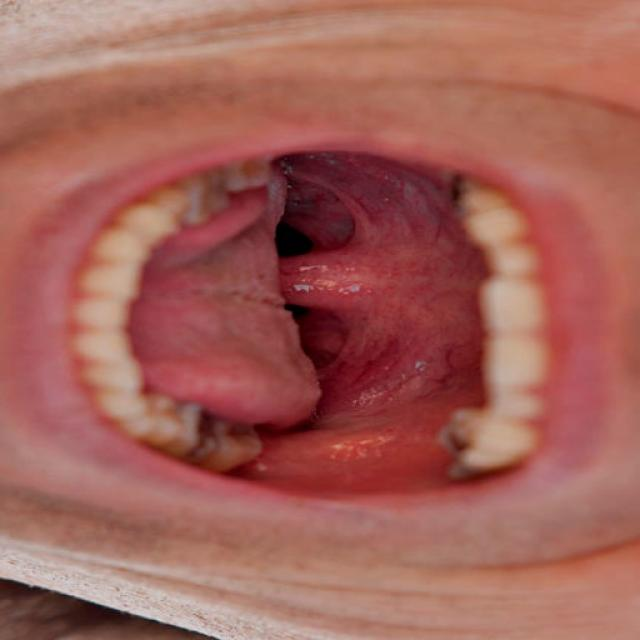processing_area: (136, 160, 480, 504)
